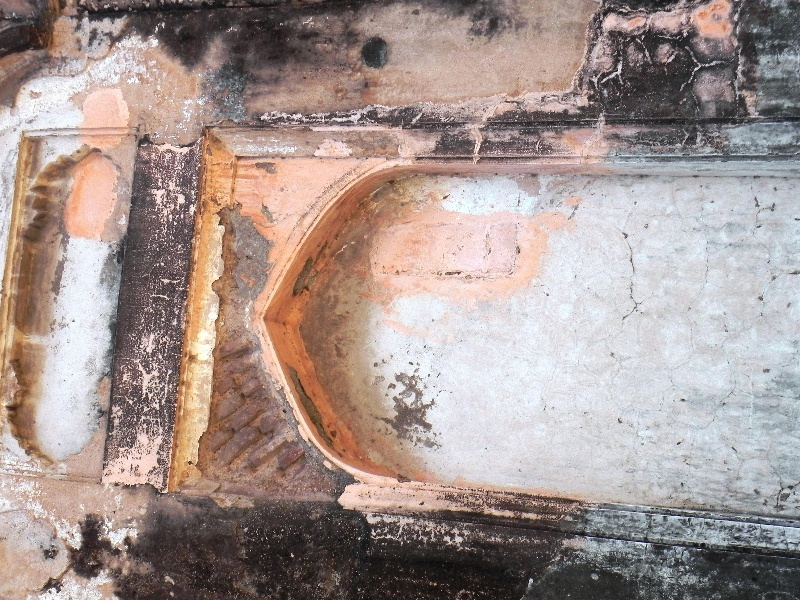Exposed Bricks: (201, 330, 304, 485)
